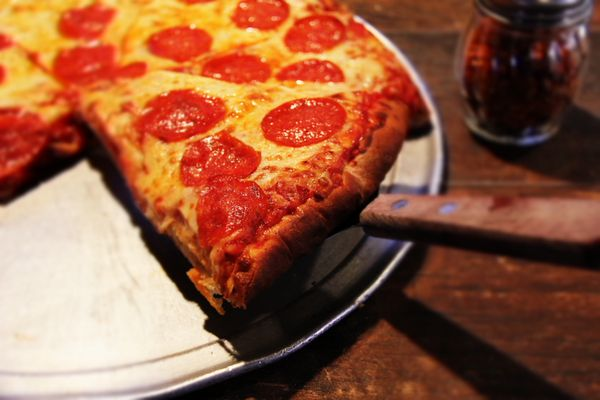pizza: (460, 0, 593, 150)
